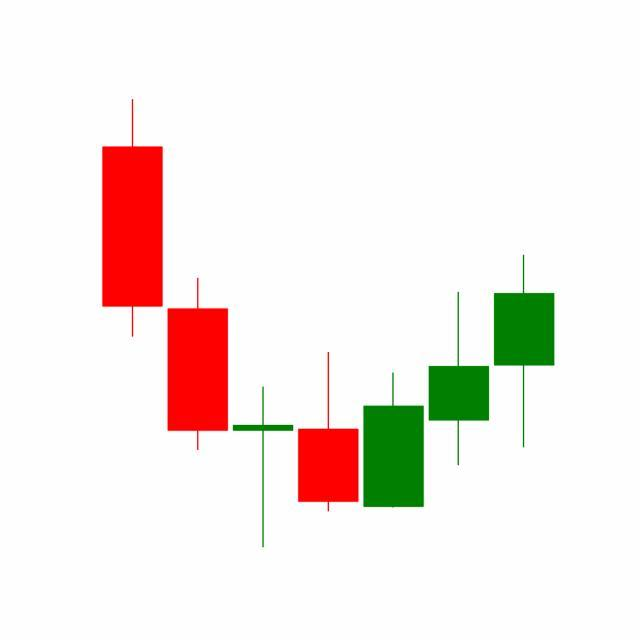Three Outside Up-Down: (295, 290, 492, 515)
